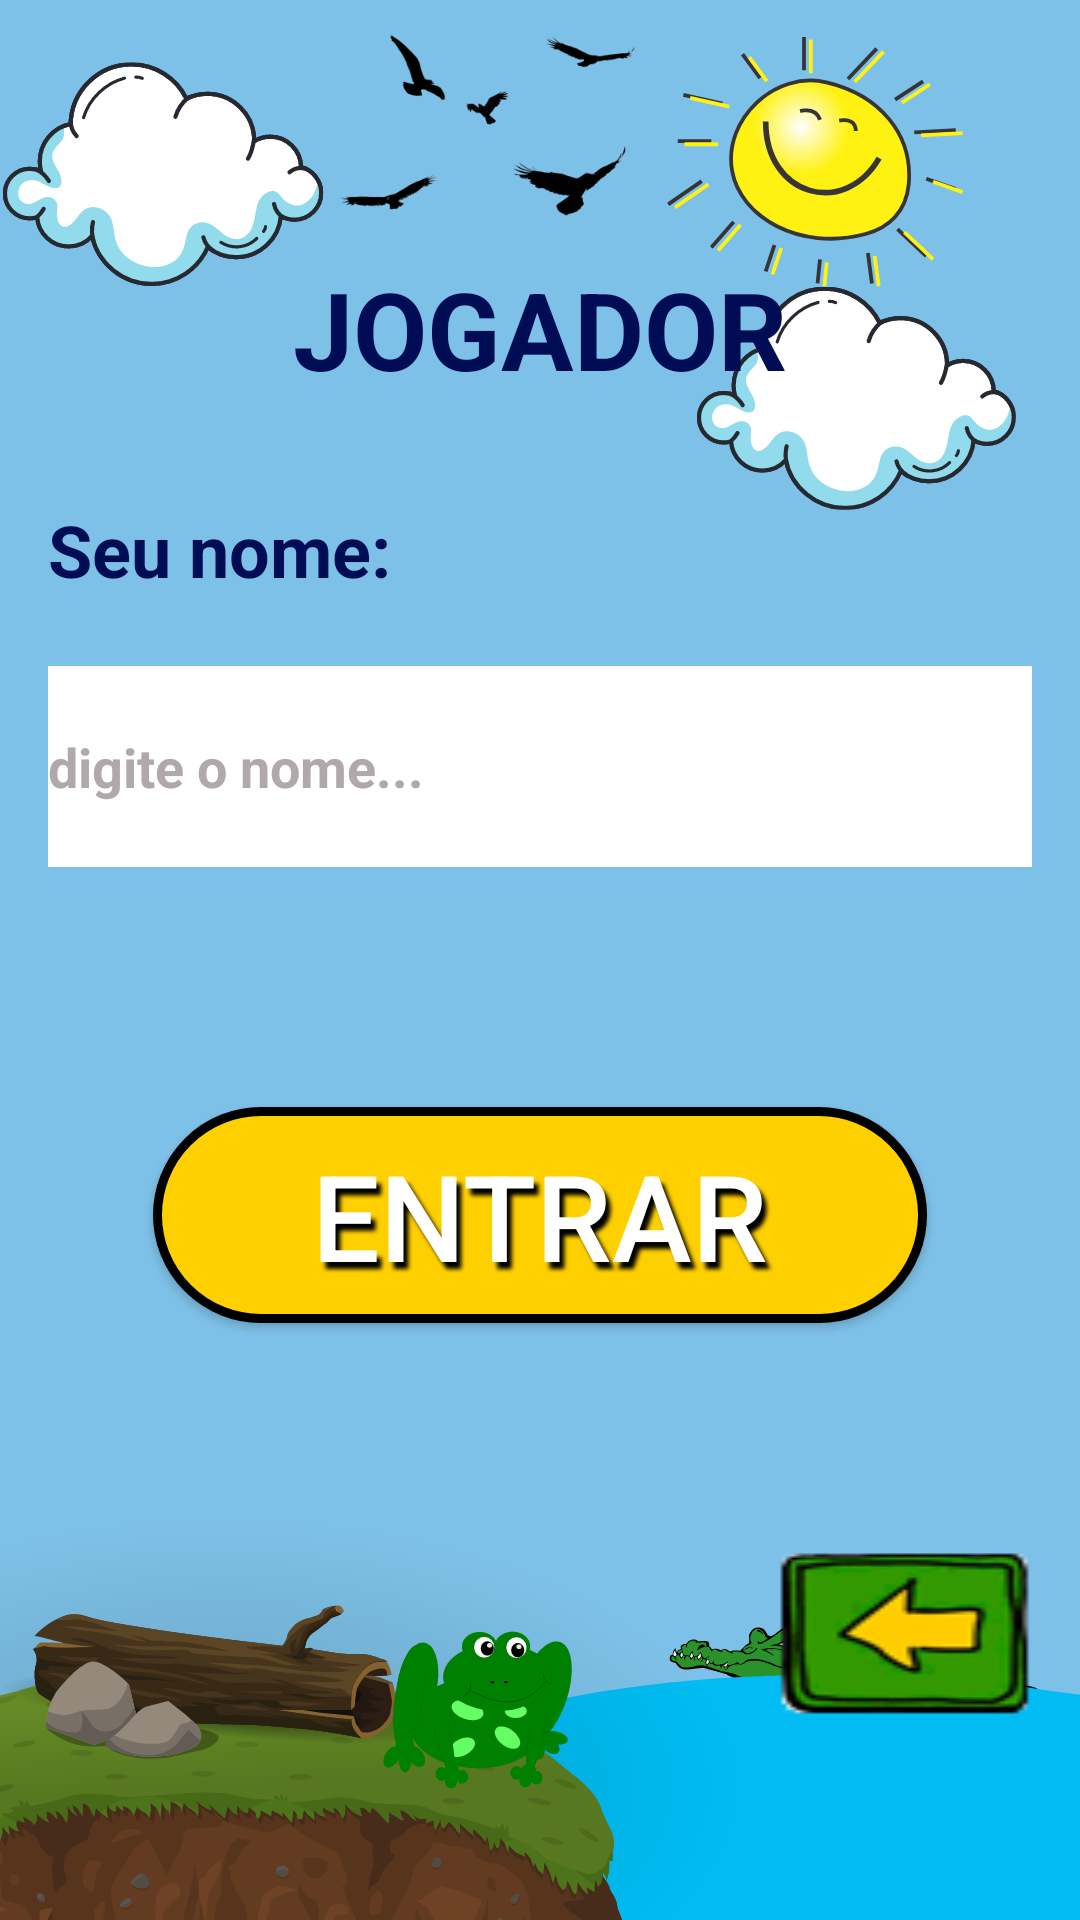

Icon click points for this 1080 × 1920 phone screenshot, format (x,y):
voltar: (900,1635)
